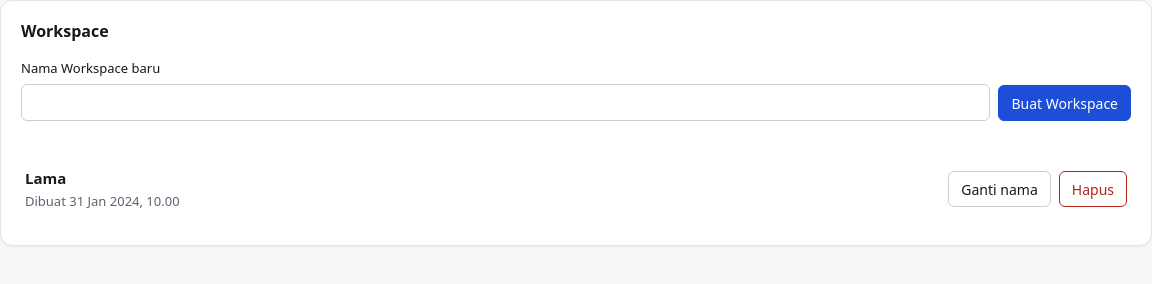
Test case: WorkspaceList › mengganti nama Workspace dan menampilkan nama baru (Req 1.3)
This screenshot has width=1152, height=284.
Click the button with aria-label "Ganti nama Lama" at (1000, 189), box [948,171,1051,207]
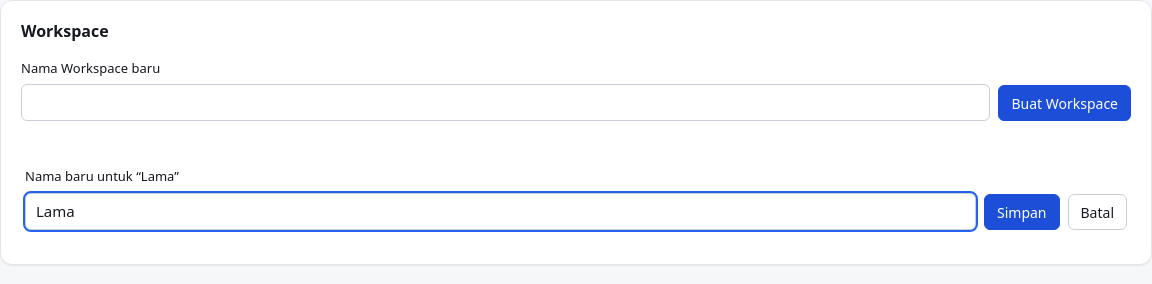
Replace the text in the field labelled "Nama baru untuk “Lama”" with "Baru" at (500, 212), box [25,193,976,230]
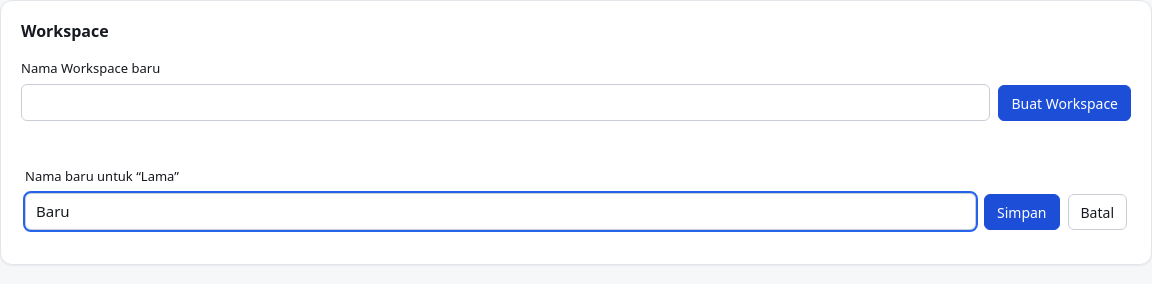
Click the button "Simpan" at (1022, 212), box [984,194,1060,230]
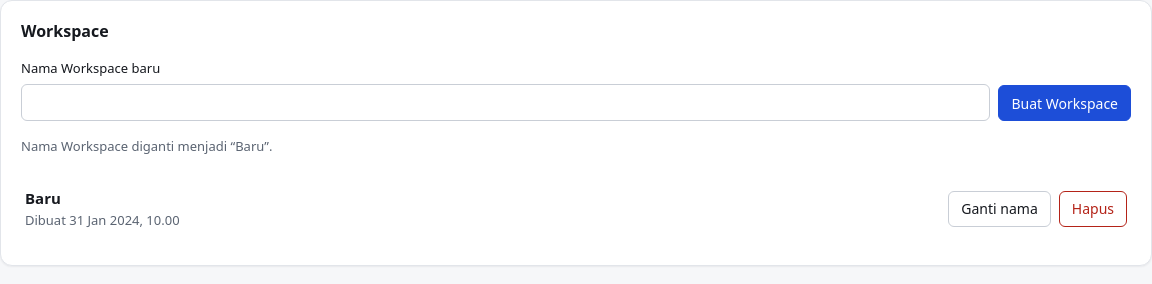
Now the link "Baru" is shown, box [25,188,61,208]
Now the label "Lama" is gone
